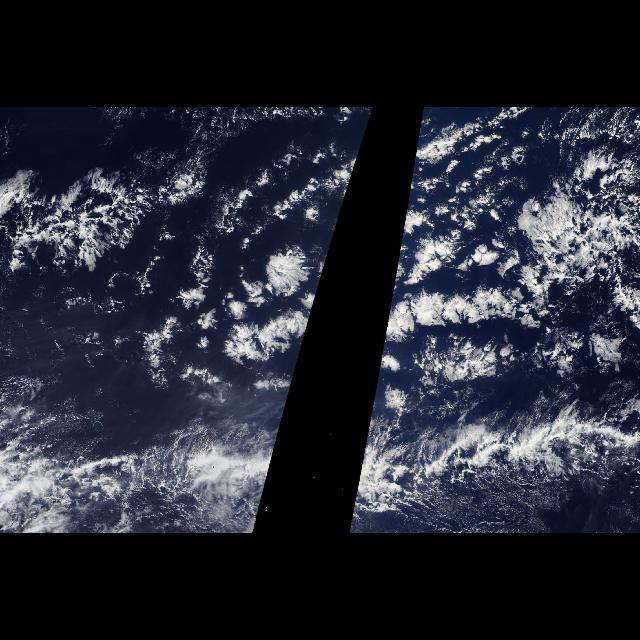Fish: (348, 396, 640, 534), (1, 150, 220, 302), (63, 396, 290, 534)
Flower: (373, 163, 601, 387), (150, 164, 356, 388)
